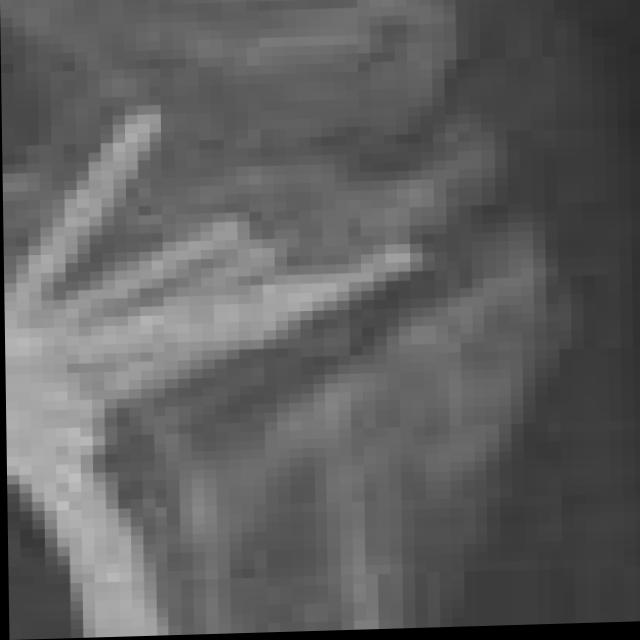fracture: (5, 0, 640, 637)
